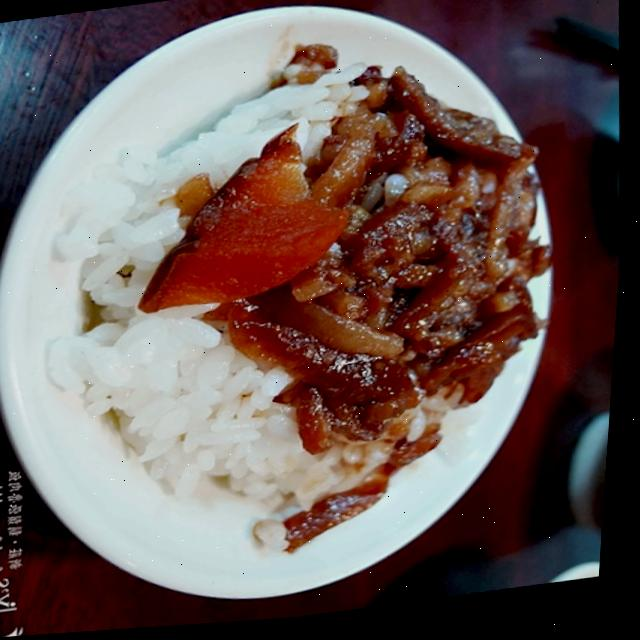猪肉菜式: (26, 27, 567, 564)
